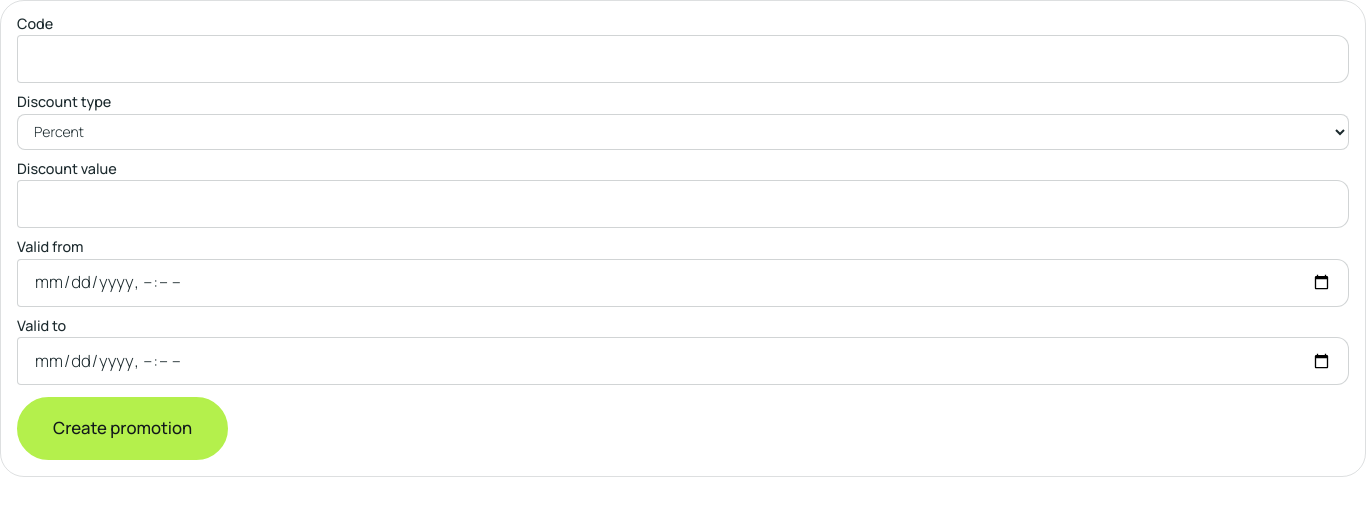
Test: PromotionForm › blocks submit when the end date is not after the start date
Type "BACK2026" into the field labelled "Code".
click(683, 59); type("BACK2026")  # box [17, 35, 1349, 83]
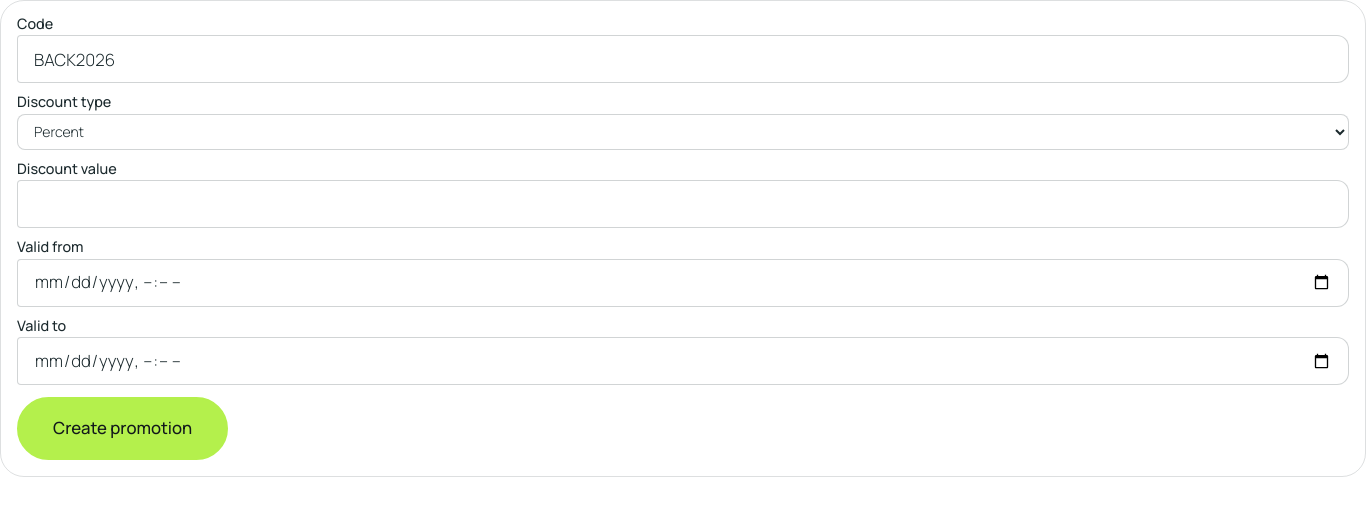
Type "10" into the field labelled "Discount value".
click(683, 204); type("10")  # box [17, 180, 1349, 228]
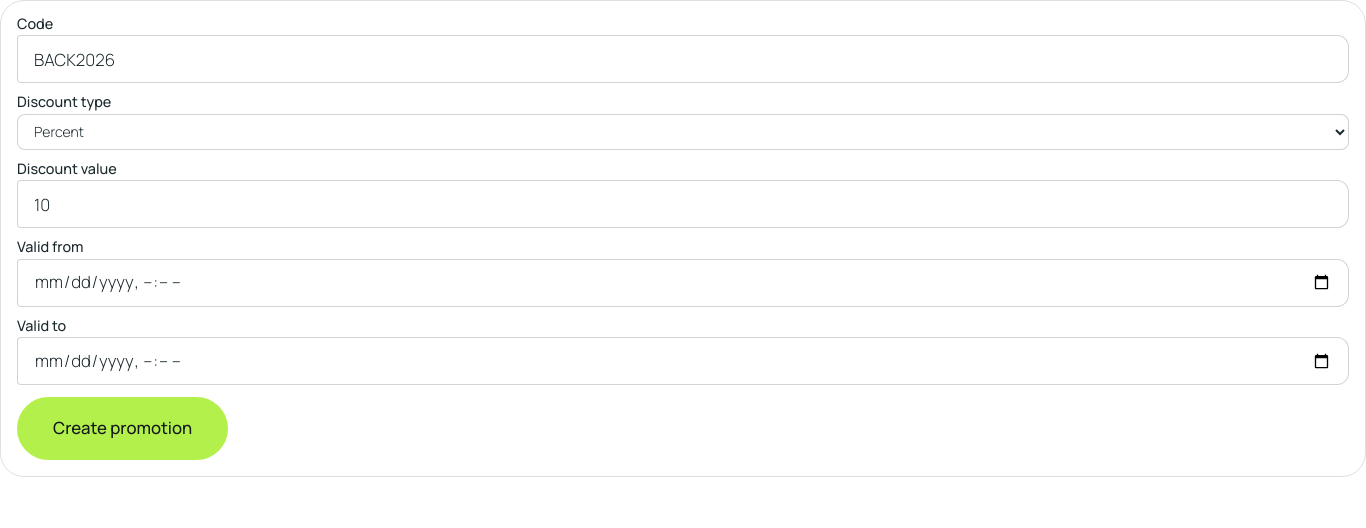
Type "2026-10-31T00:00" into the field labelled "Valid from".
click(683, 283); type("2026-10-31T00:00")  # box [17, 259, 1349, 307]
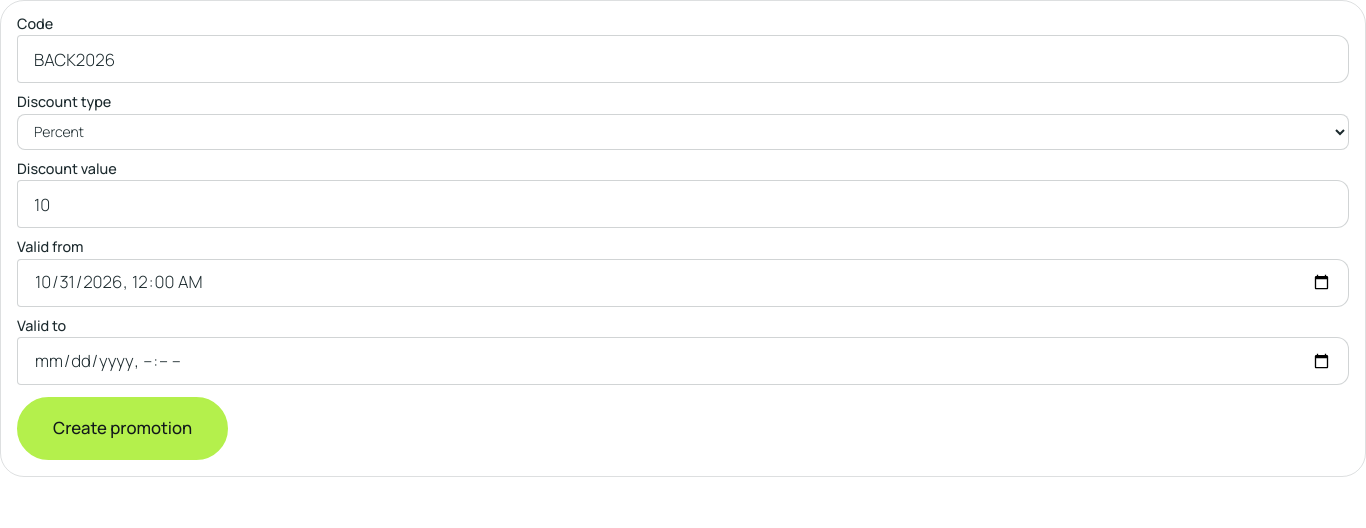
Type "2026-10-01T00:00" into the field labelled "Valid to".
click(683, 361); type("2026-10-01T00:00")  # box [17, 337, 1349, 385]
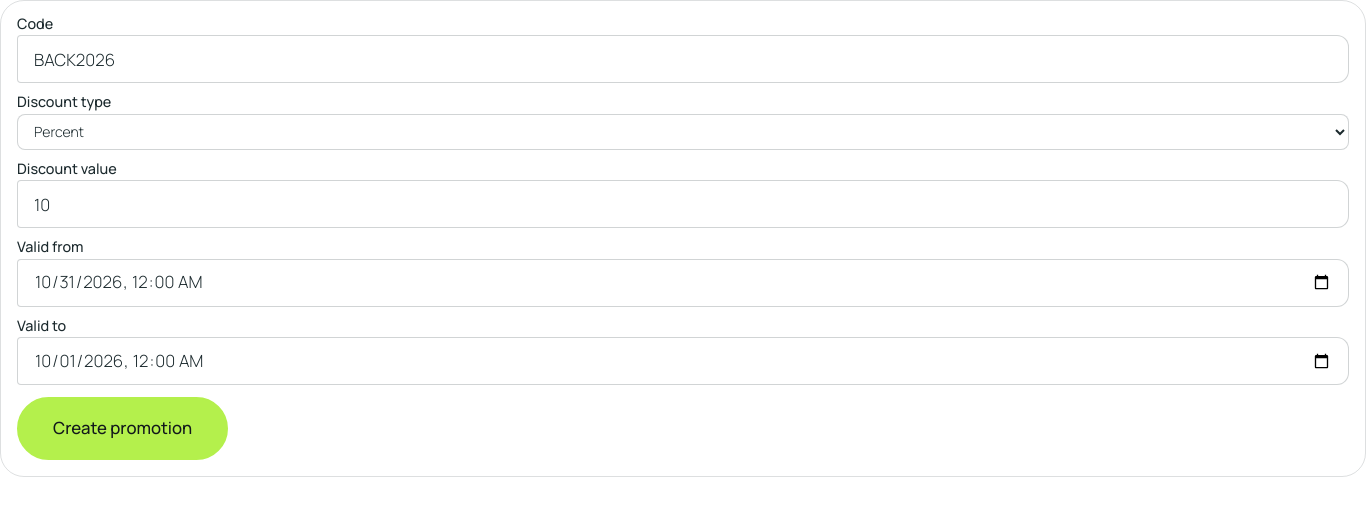
Click the button "Create promotion".
click(123, 428)  # box [17, 397, 228, 460]
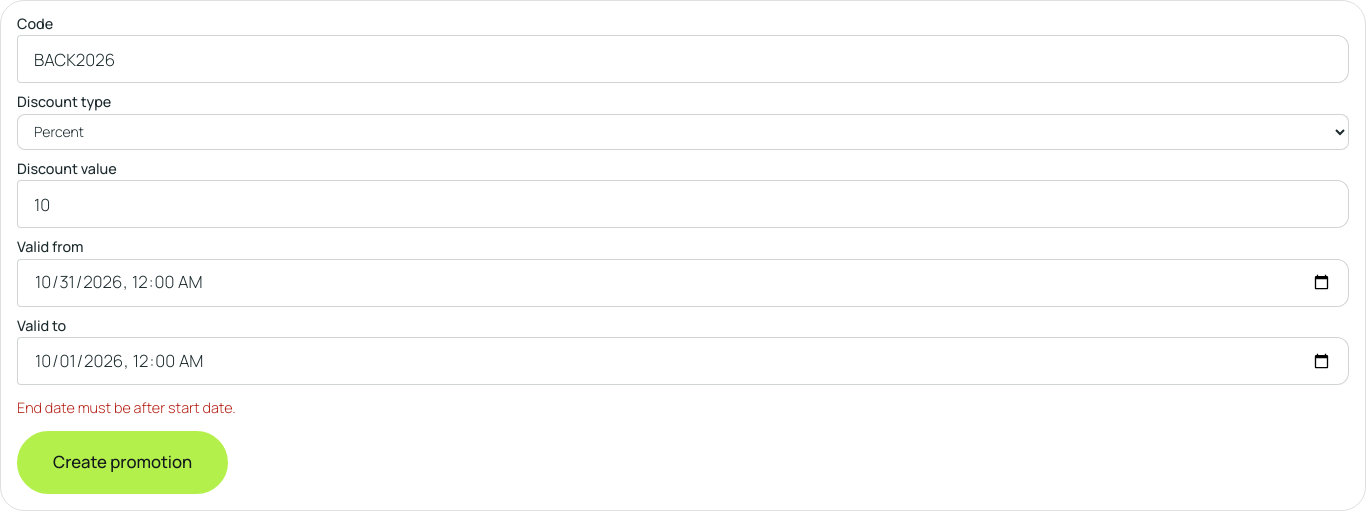
Now the message reads "End date must be after start date.", box [17, 398, 236, 417]
